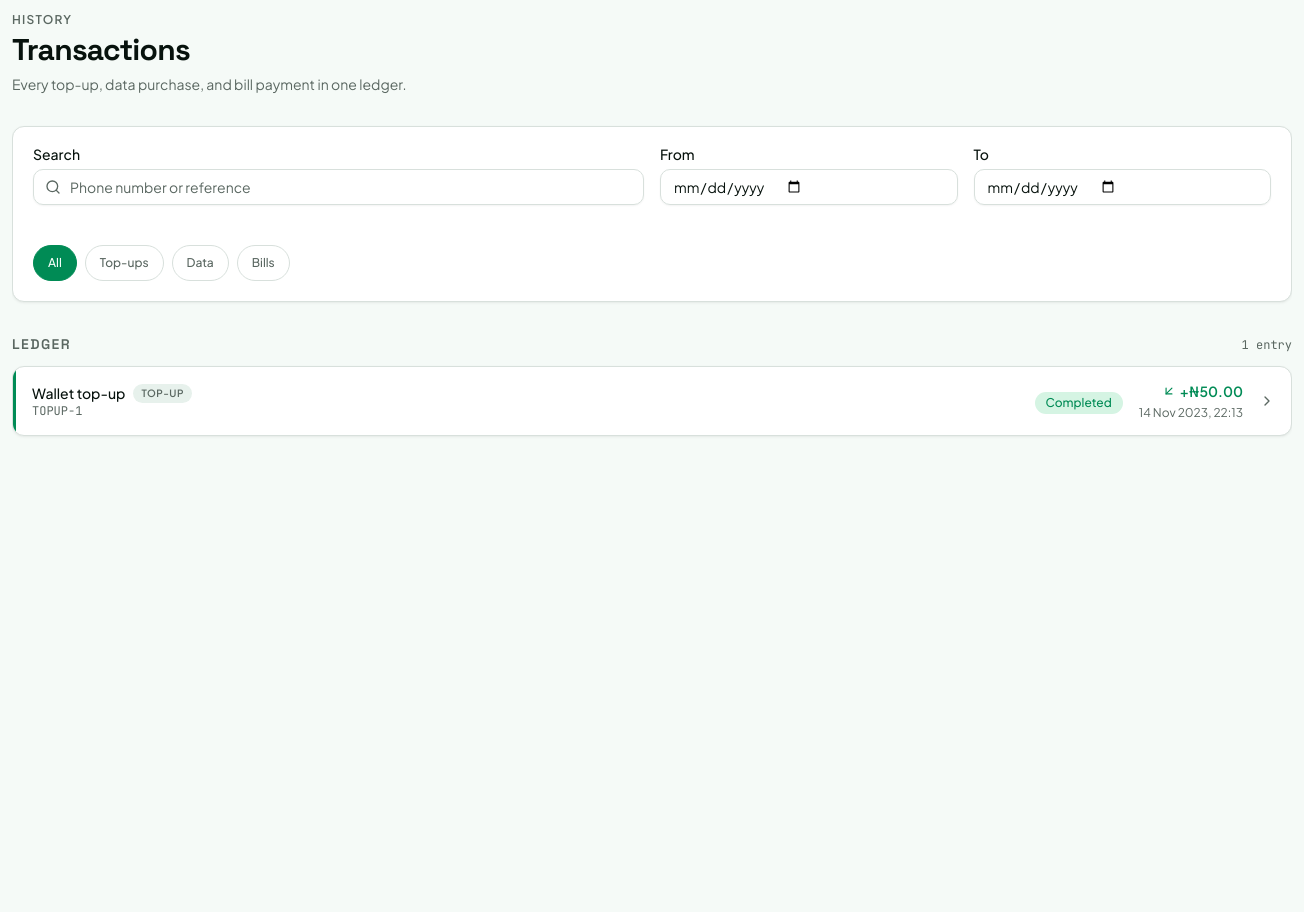
TransactionsPage › opens a transaction detail view from the list
Step 1. Click the text "Wallet top-up" → (79, 393), box top-left (32, 383), bottom-right (125, 403)
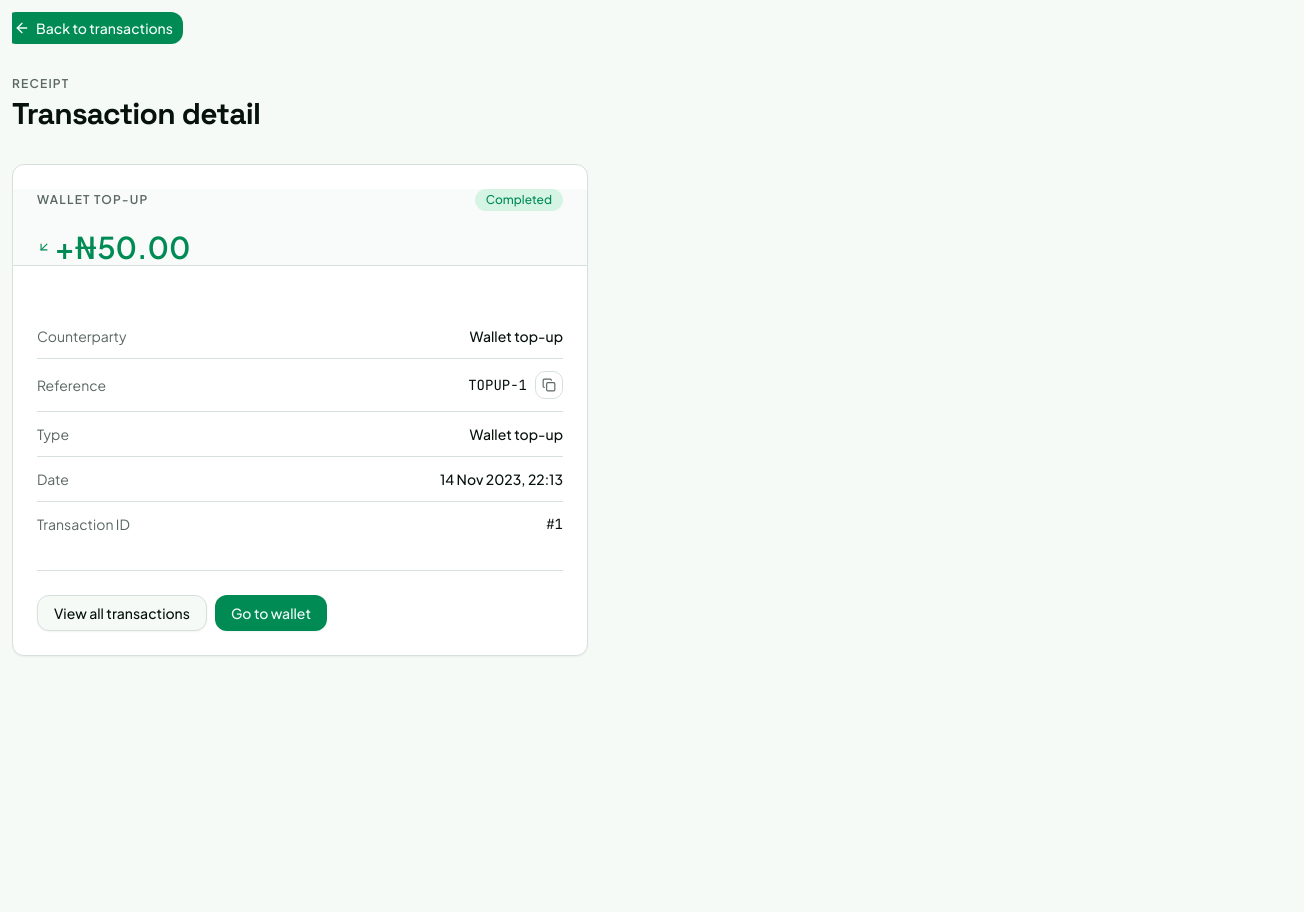
Check: the text "TOPUP-1" is shown, box top-left (468, 375), bottom-right (527, 395)
Check: the heading "Transaction detail" is shown, box top-left (12, 96), bottom-right (260, 132)
Check: the text "#1" is shown, box top-left (546, 514), bottom-right (563, 534)
